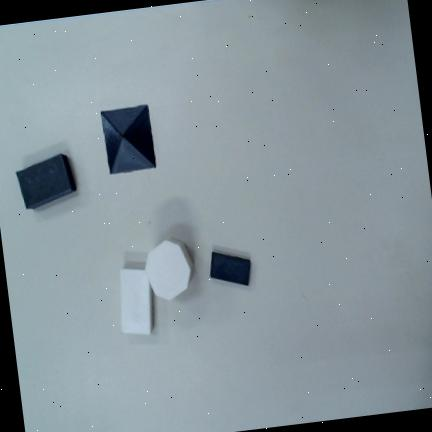Paralelepipedo: (16, 153, 77, 209), (119, 268, 153, 335), (209, 251, 249, 286)
Piramide: (101, 105, 155, 174)
Prisma_hexagonal: (144, 236, 193, 300)
